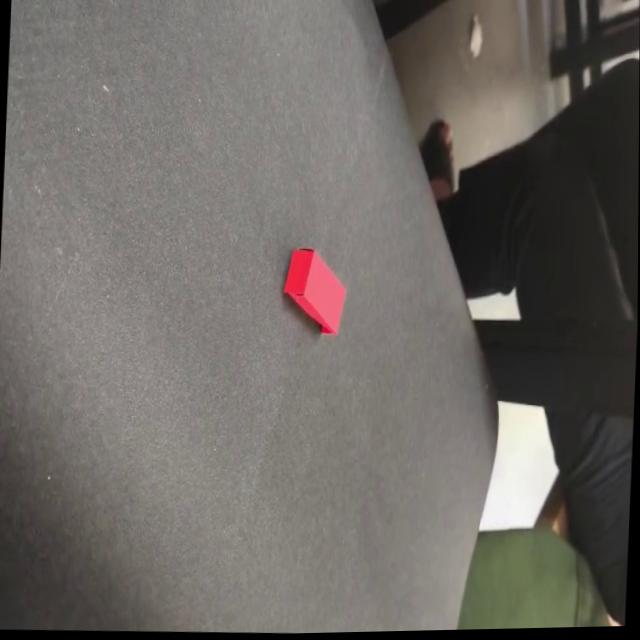red block: (281, 243, 349, 336)
